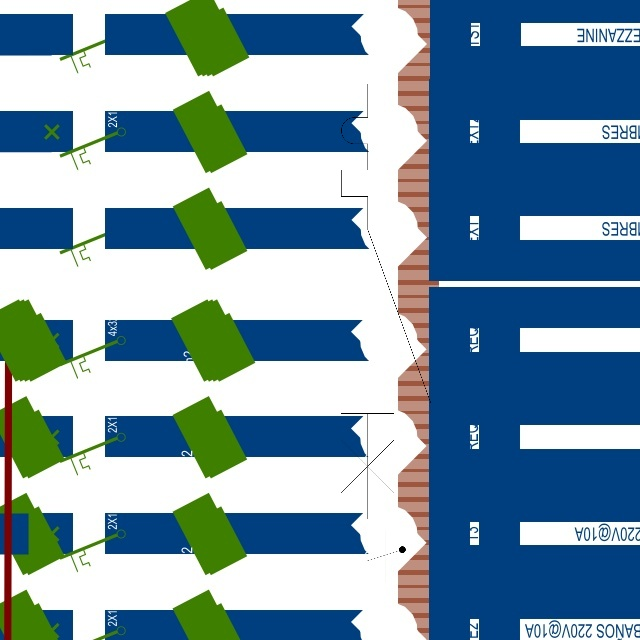interruptor_termomagnetico: (330, 73, 442, 530)
